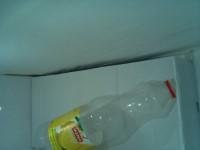bottle: (0, 13, 178, 150)
